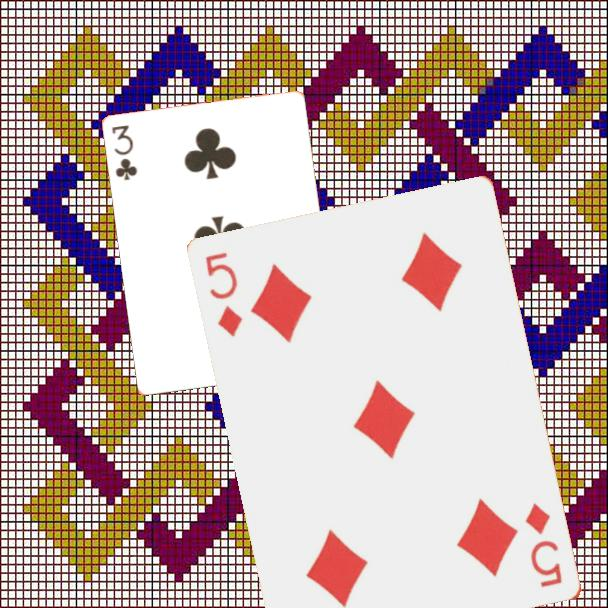c03: (108, 122, 140, 184)
d05: (522, 500, 566, 591), (202, 249, 246, 340)
